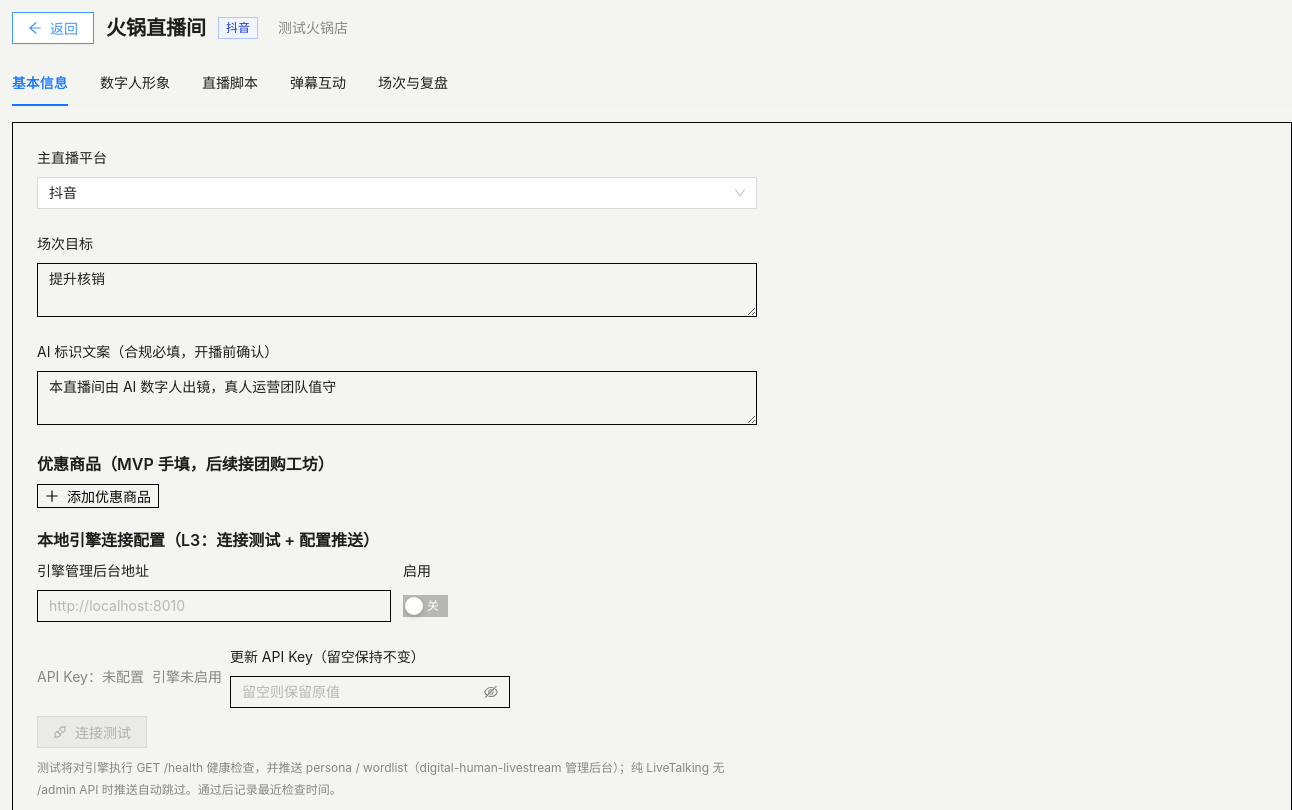
it: LiveEditorPage · 直播脚本 › 草稿脚本：导出禁用，定稿可用；合规失败后定稿禁用并展示原因
This screenshot has width=1292, height=810.
Check: the heading "火锅直播间" is shown, box [106, 14, 206, 42]
What coordinates should you click on to do the following:
click the tab "直播脚本"
I would click on:
 (230, 83)
Its box is [202, 72, 258, 94].
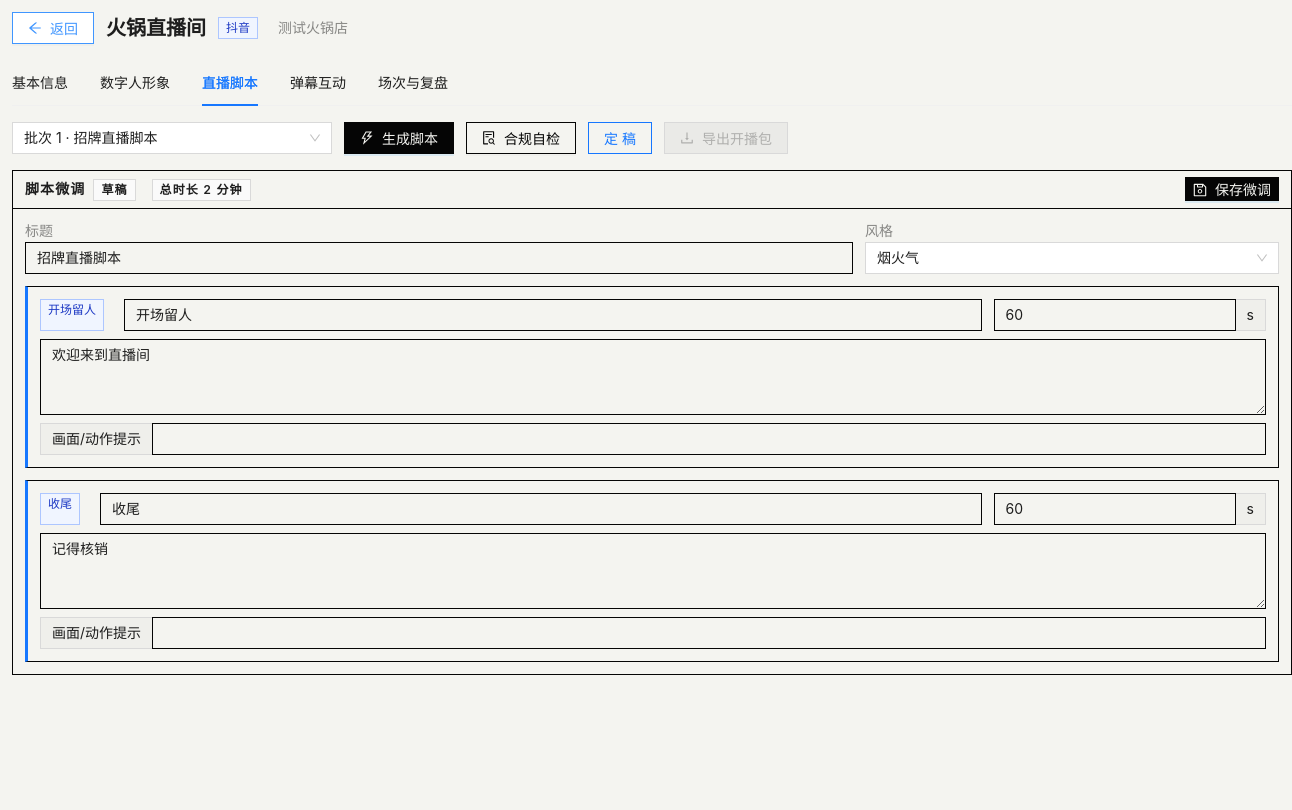
Check: the button "导出开播包" is disabled, box [664, 122, 788, 154]
Check: the button "定 稿" is enabled, box [588, 122, 652, 154]
What coordinates should you click on to do the following:
click the button "合规自检"
I would click on:
 (521, 138)
Its box is [466, 122, 576, 154].
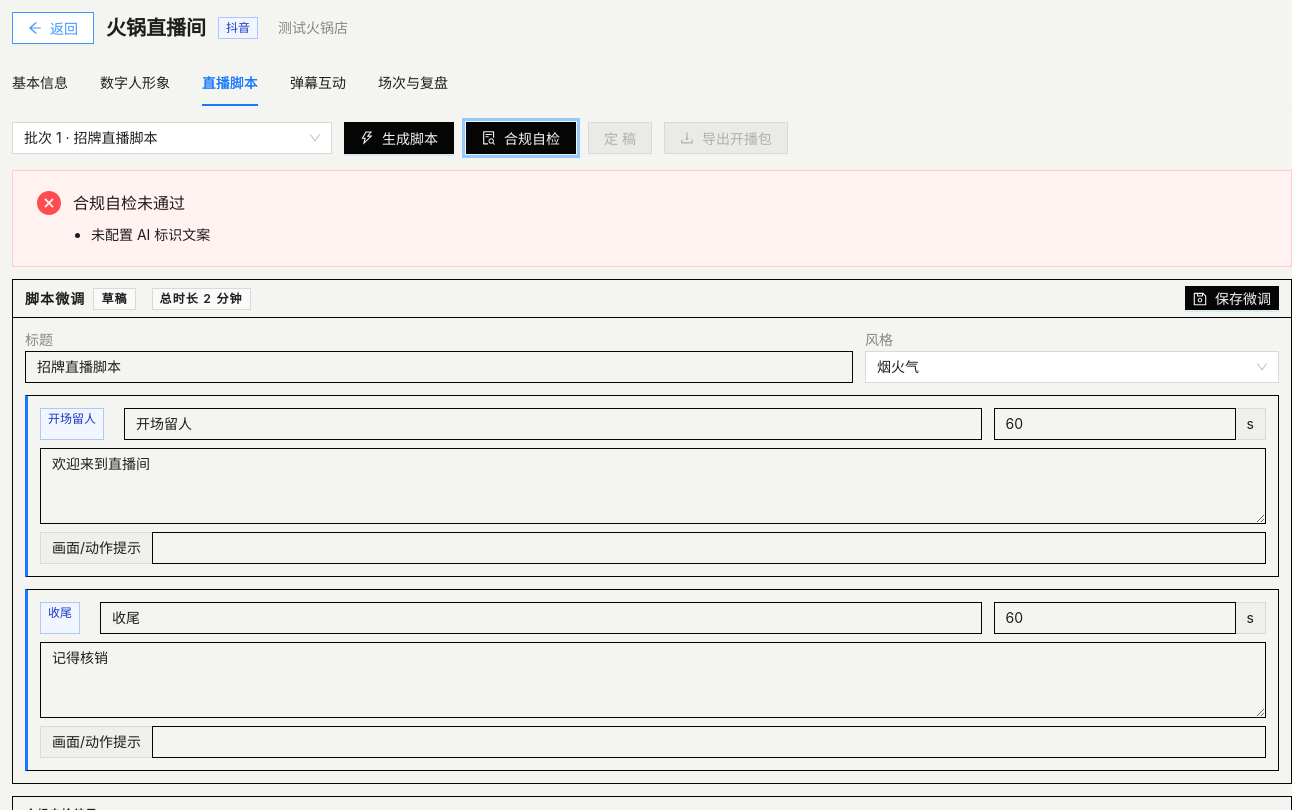
Check: the list item "未配置 AI 标识文案" is shown, box [91, 226, 210, 243]
Check: the button "定 稿" is disabled, box [588, 122, 652, 154]
